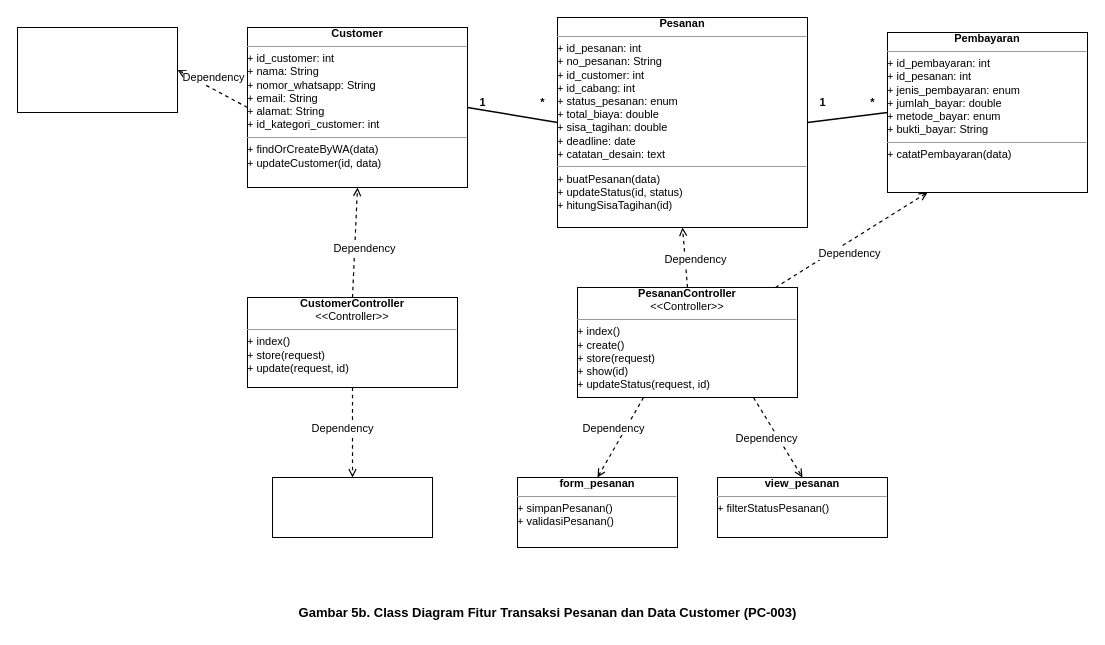
Image size: 1105x645. Some labels were removed from this diagram. Here are the shapes that lost their labels. From the top down, the box of each, then its label:
(16, 26, 178, 112): Database + db: array + nama_database: String + koneksi(nama_database)
(272, 476, 432, 538): view_customer + listCustomer()
